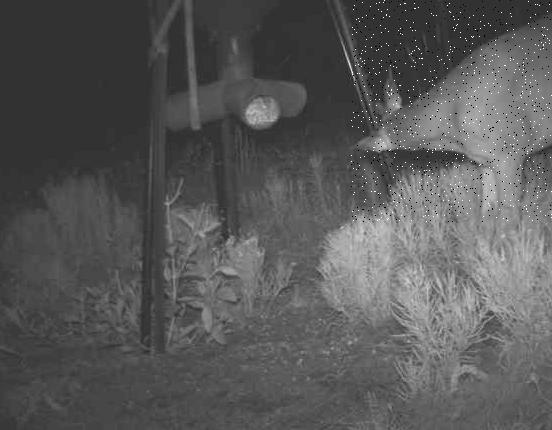Deer: (351, 0, 552, 222)
